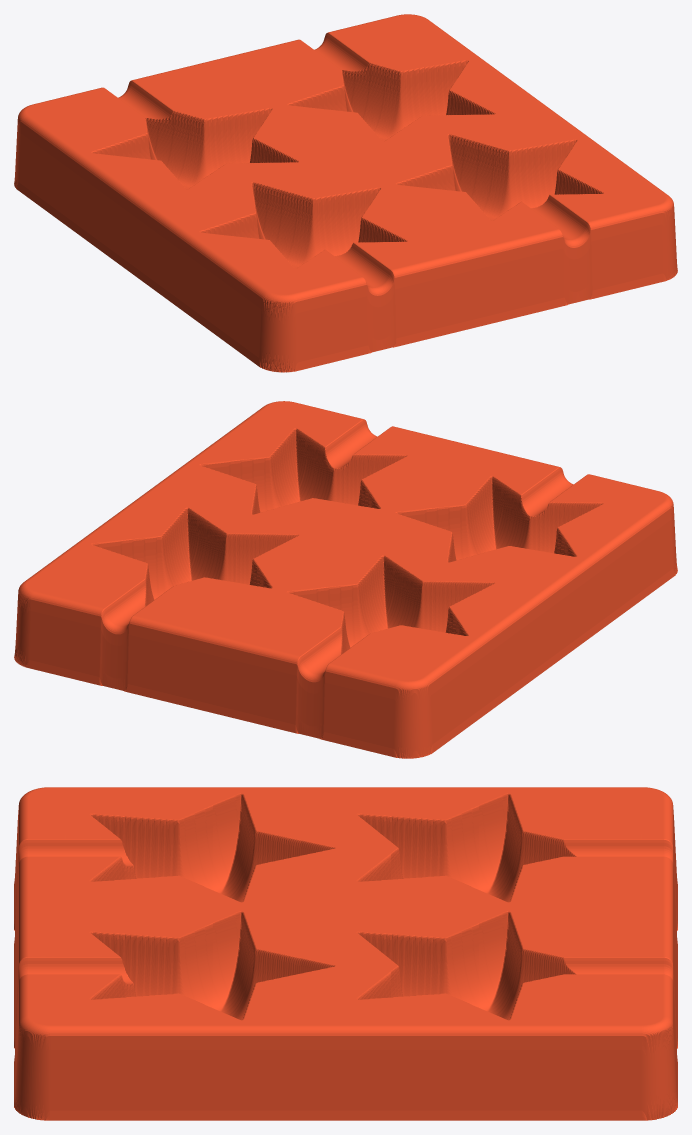
The model's file is mold.glb.
3 renders of one model, top to bottom at view 1: azimuth 30°, elevation 25°; view 2: azimuth 150°, elevation 25°; view 3: azimuth 270°, elevation 25°, orthographic. The views are drawn at different scales.
Visible parts, largest first — view 1: geometry_0; view 2: geometry_0; view 3: geometry_0.
Part boxes in pixels (left/top/right/bottom): geometry_0: left=14, top=14, right=677, bottom=372; geometry_0: left=14, top=401, right=677, bottom=758; geometry_0: left=14, top=787, right=677, bottom=1120.
Bounding box in the file's own units: 0.1468 × 0.0245 × 0.1651.
